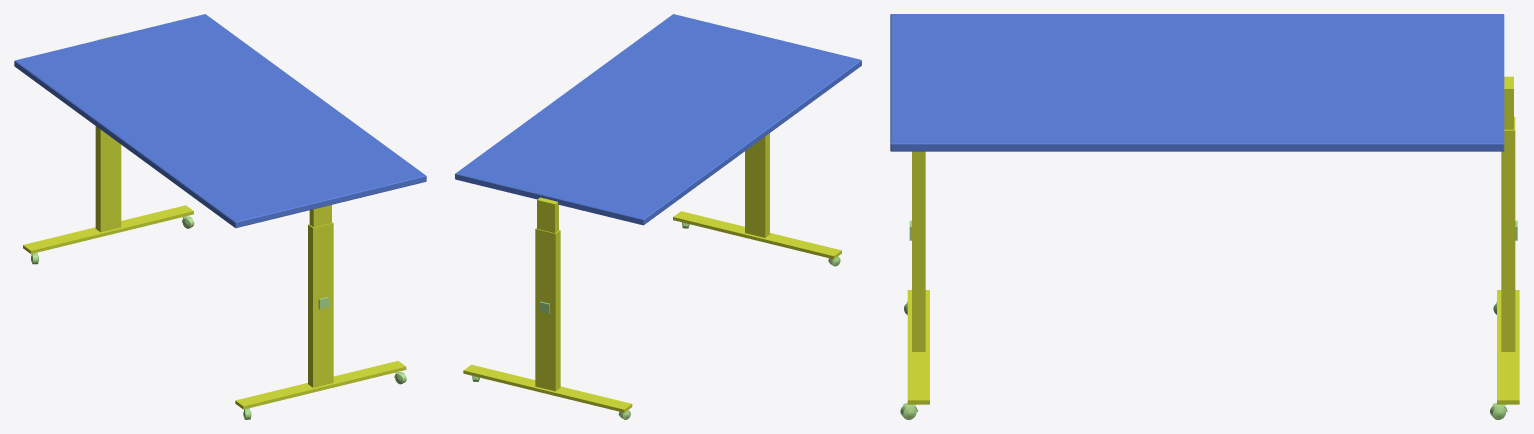
File: tableB.fbx
The picture shows the model from 3 angles, left to right: view 1: azimuth 30°, elevation 25°; view 2: azimuth 150°, elevation 25°; view 3: azimuth 270°, elevation 25°; orthographic projection. The views are drawn at different scales.
Parts seen in each view (by area): view 1: tableB; view 2: tableB; view 3: tableB.
Part boxes in pixels (box(x1,y1,x2,y2)): tableB: box(14, 14, 426, 419); tableB: box(455, 14, 861, 419); tableB: box(890, 14, 1519, 419).
Size of the model in its own units: 67.41 by 69.86 by 138.
